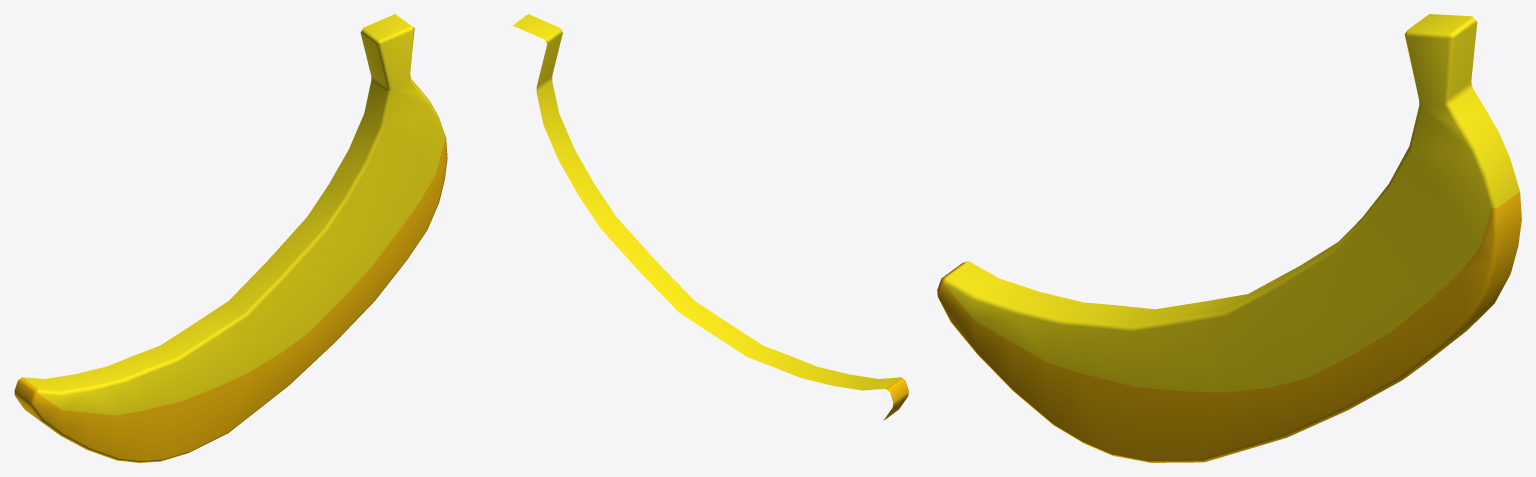
Rendered from Store_19_Banana_Sign_1.glb.
3 renders of one model, left to right at view 1: azimuth 30°, elevation 25°; view 2: azimuth 150°, elevation 25°; view 3: azimuth 330°, elevation 25°, orthographic. The views are drawn at different scales.
Parts seen in each view (by area): view 1: Store_19_Banana_Sign_1; view 2: Store_19_Banana_Sign_1; view 3: Store_19_Banana_Sign_1.
Part boxes in pixels (<box>): Store_19_Banana_Sign_1: <box>14,14,447,462</box>; Store_19_Banana_Sign_1: <box>513,14,908,420</box>; Store_19_Banana_Sign_1: <box>937,14,1521,462</box>.
Bounding box in the file's own units: 0.5781 × 0.4964 × 0.0427.
Materials: 1 (1 with a texture image).
